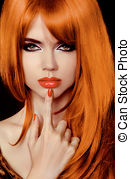face: (12, 6, 92, 98)
